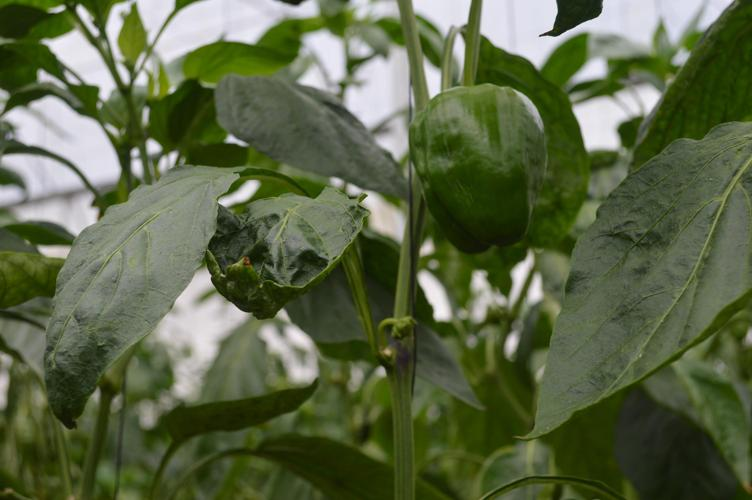BellPepper: (407, 83, 548, 258)
